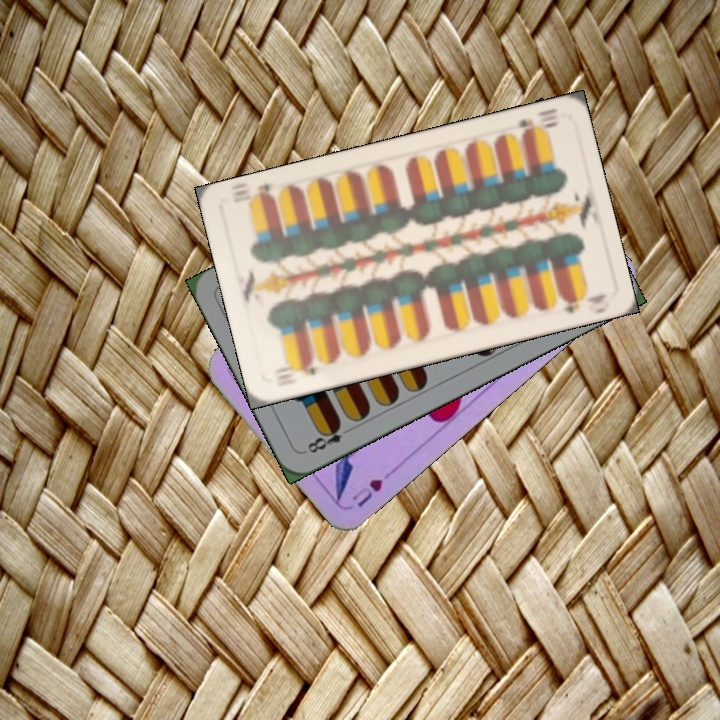E10: (514, 115, 560, 141), (274, 357, 319, 383)
E8: (301, 418, 356, 456)
HU: (347, 474, 386, 510)
